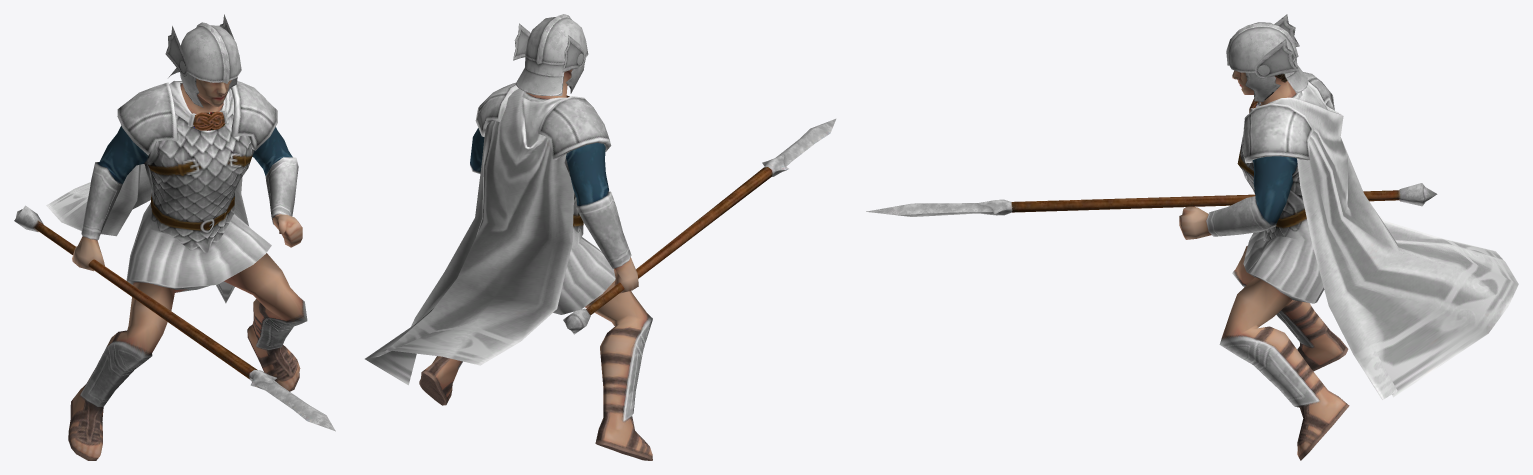
File: rider-heavycavalry.glb
3 views of the same model, side by side, from view 1: azimuth 30°, elevation 25°; view 2: azimuth 150°, elevation 25°; view 3: azimuth 270°, elevation 25° (orthographic). The views are drawn at different scales.
Size of the model in its own units: 1.14 by 1.98 by 2.9.
Materials: 3 (3 with a texture image).
